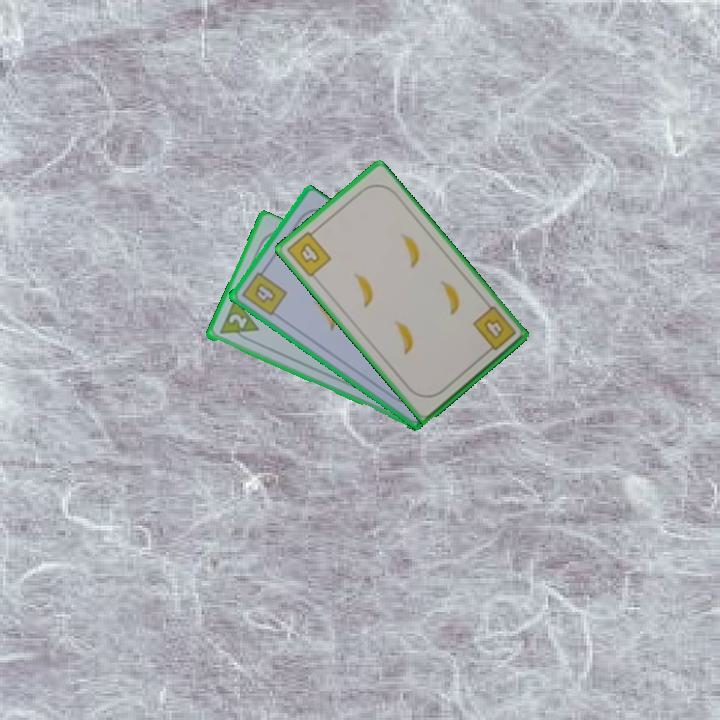2p: (215, 296, 261, 346)
4b: (238, 264, 289, 319), (283, 225, 334, 280), (469, 302, 519, 357)
